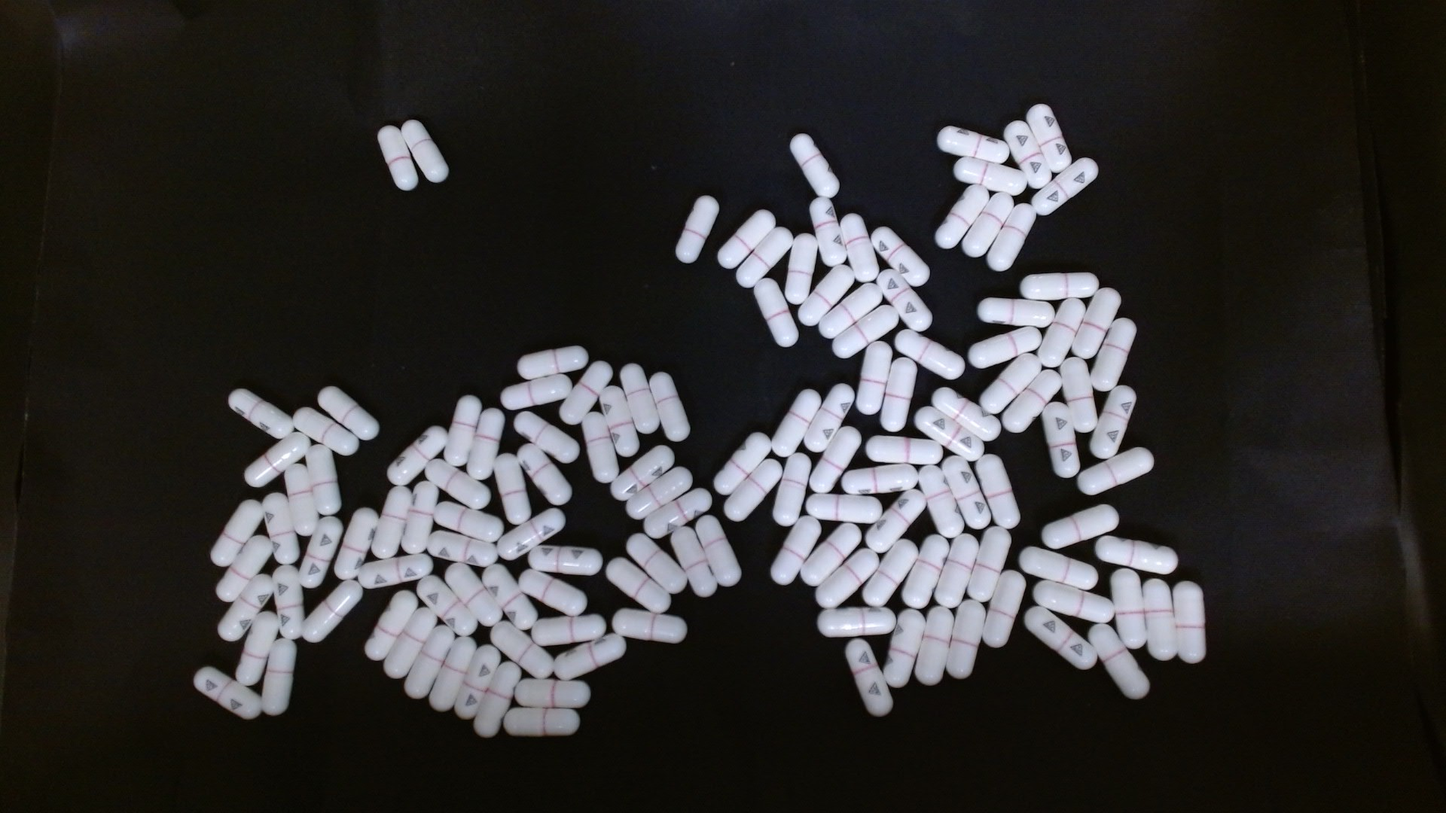Capsule: (1023, 605, 1101, 675), (1088, 620, 1150, 701), (975, 351, 1046, 419), (798, 522, 865, 593), (712, 427, 775, 500), (357, 588, 419, 662), (489, 617, 559, 681), (380, 605, 438, 682), (721, 448, 782, 521), (214, 531, 274, 605), (413, 573, 479, 640), (999, 367, 1063, 435), (206, 496, 265, 569), (828, 301, 899, 361), (862, 538, 920, 611), (604, 548, 670, 612), (215, 574, 276, 643), (929, 386, 1002, 443), (813, 547, 880, 609), (244, 431, 314, 490), (895, 327, 966, 385), (940, 454, 994, 530), (611, 444, 679, 504), (1016, 544, 1101, 592), (482, 563, 541, 632), (300, 580, 363, 644), (386, 425, 451, 487), (428, 634, 479, 713), (515, 410, 581, 471), (1078, 445, 1155, 497), (934, 183, 992, 252), (844, 637, 894, 717), (641, 484, 715, 538), (865, 489, 927, 553), (962, 190, 1017, 262), (985, 201, 1040, 273), (403, 623, 455, 699), (1034, 296, 1088, 369), (472, 661, 523, 738), (901, 532, 952, 609), (1073, 284, 1123, 362), (799, 262, 857, 329), (810, 425, 863, 498), (914, 404, 983, 460), (627, 532, 688, 595), (716, 207, 777, 270), (1041, 502, 1121, 550), (670, 524, 721, 599), (1032, 580, 1117, 625), (1093, 531, 1178, 576), (446, 561, 503, 628), (818, 282, 885, 339), (980, 564, 1026, 647), (802, 381, 855, 453), (191, 662, 260, 717), (1090, 384, 1139, 461), (769, 386, 822, 457), (623, 467, 694, 520), (291, 406, 360, 460), (916, 463, 965, 539), (771, 511, 822, 584), (880, 275, 939, 338), (316, 385, 380, 443), (874, 224, 932, 288), (495, 508, 565, 561), (974, 453, 1022, 530), (967, 525, 1015, 602), (881, 607, 926, 689), (228, 386, 295, 441), (452, 644, 501, 719), (515, 568, 588, 618), (234, 610, 282, 686), (425, 456, 490, 512), (1003, 118, 1053, 190), (1036, 157, 1098, 215), (737, 224, 793, 288), (517, 443, 572, 508), (932, 532, 978, 608), (1090, 316, 1136, 392), (559, 360, 612, 425), (944, 598, 987, 678), (697, 515, 743, 589), (1140, 574, 1179, 661), (332, 506, 378, 579), (1026, 103, 1072, 176), (752, 276, 798, 349), (912, 607, 955, 685), (430, 499, 506, 543), (967, 325, 1043, 369), (621, 362, 663, 441), (1060, 358, 1100, 440), (1109, 568, 1149, 650), (771, 449, 813, 527), (935, 124, 1013, 166), (553, 635, 627, 679), (370, 485, 412, 561), (599, 382, 641, 458), (299, 512, 343, 584), (284, 460, 325, 537), (952, 156, 1029, 197), (791, 131, 838, 198), (401, 119, 449, 184), (1042, 400, 1080, 481), (445, 394, 486, 469), (649, 370, 691, 443), (304, 443, 343, 521), (261, 491, 301, 567), (493, 452, 534, 525), (675, 194, 718, 263), (580, 411, 620, 485), (1171, 580, 1207, 662), (356, 553, 433, 591), (502, 372, 577, 411), (467, 405, 505, 481), (526, 540, 604, 577), (611, 607, 688, 644), (882, 355, 918, 434), (855, 341, 891, 420), (261, 636, 297, 715), (427, 528, 498, 568), (840, 214, 880, 284), (268, 565, 305, 640), (529, 611, 606, 647), (815, 607, 896, 640), (864, 434, 941, 468), (514, 344, 588, 379), (398, 485, 435, 555), (807, 492, 885, 525), (840, 464, 923, 495), (784, 233, 819, 305), (978, 297, 1056, 329), (377, 126, 416, 190), (504, 706, 581, 738), (513, 677, 590, 708), (1020, 271, 1102, 300), (809, 197, 845, 263)
